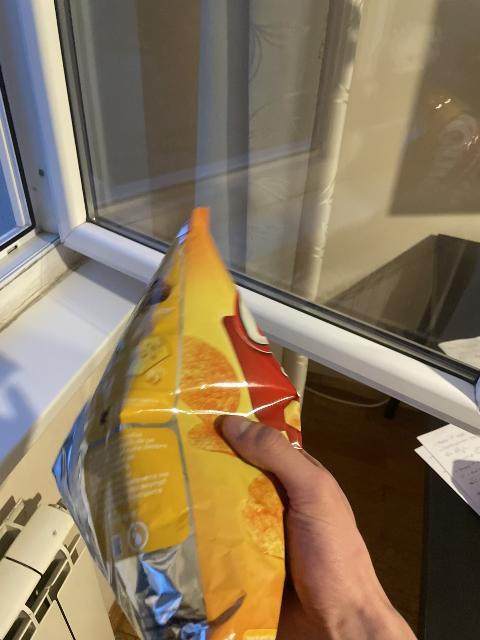Chio Cascaval 125g: (53, 207, 305, 639)
